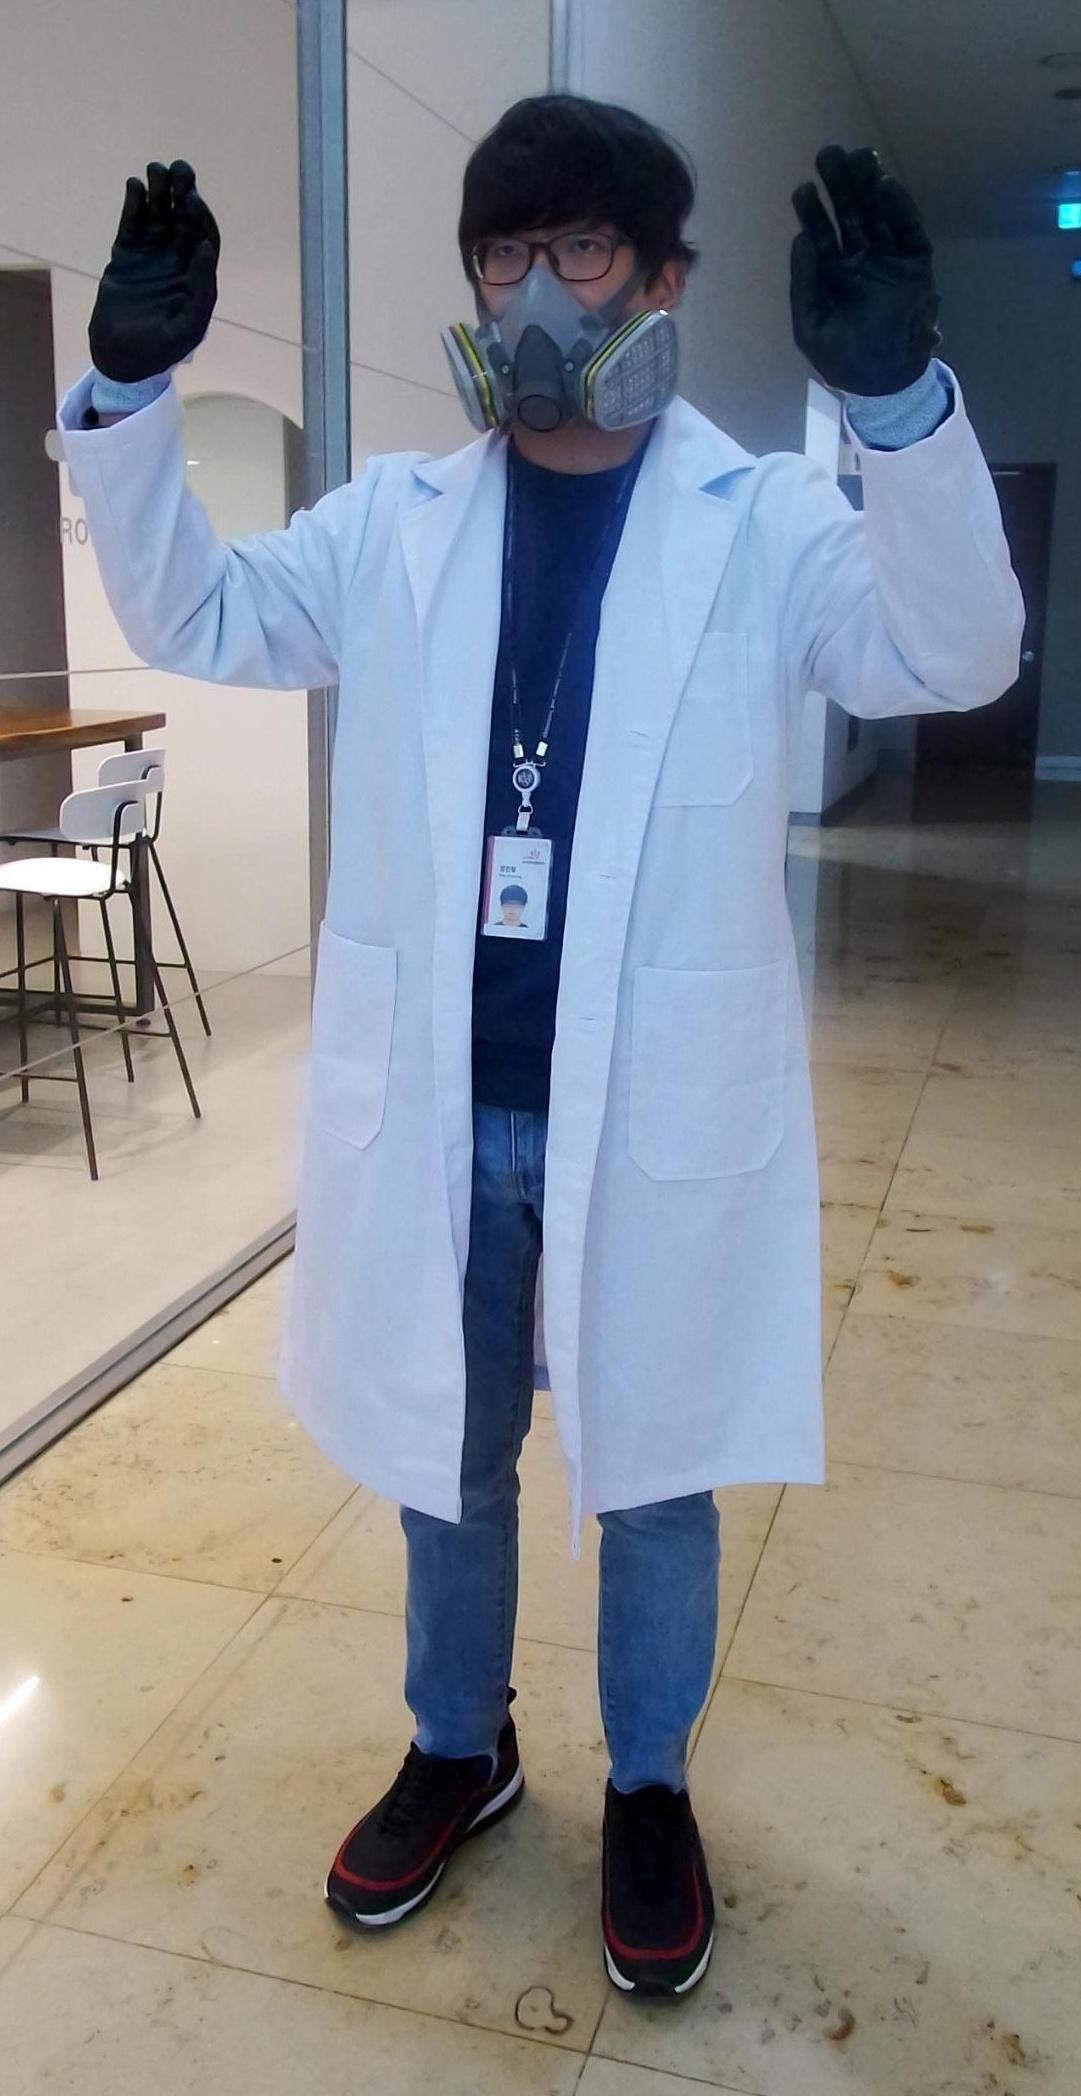lab_coat: (51, 411, 960, 1487)
